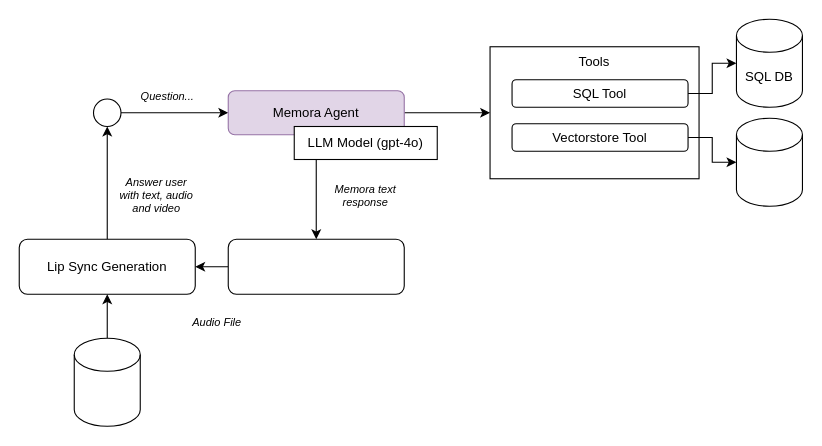
Some shapes in this 822 by 446 pixel diagram are drawn without their labels. Here are the shapes that lost their labels. From the top down, the box of each, then its label:
(735, 117, 802, 206): Vector DB
(227, 238, 404, 294): Audio Generation
(73, 337, 140, 426): DB
